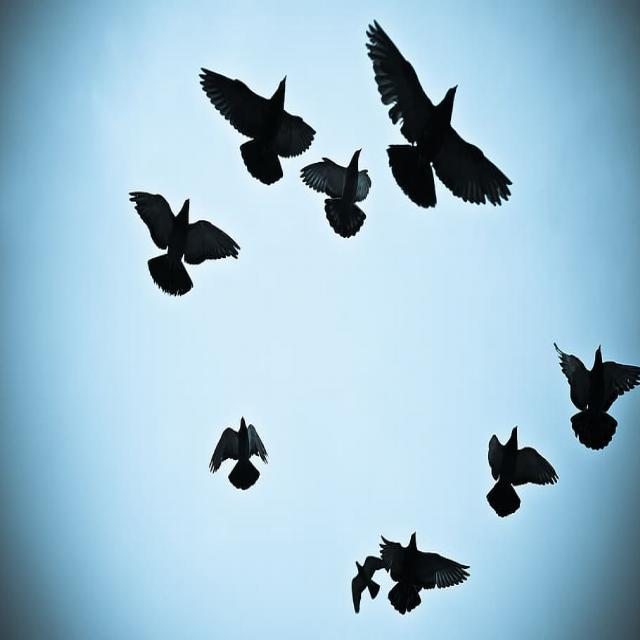bird: (355, 4, 540, 238), (115, 164, 276, 340), (178, 39, 318, 214), (541, 314, 640, 507), (190, 356, 303, 516), (373, 504, 481, 640), (294, 136, 374, 260), (473, 409, 559, 522), (332, 540, 386, 632)
